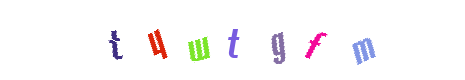4: (117, 0, 197, 80)
F: (257, 0, 337, 80)
G: (218, 0, 298, 80)
M: (270, 0, 350, 80)
T: (75, 0, 155, 80), (191, 0, 271, 80)
W: (159, 0, 239, 80)
